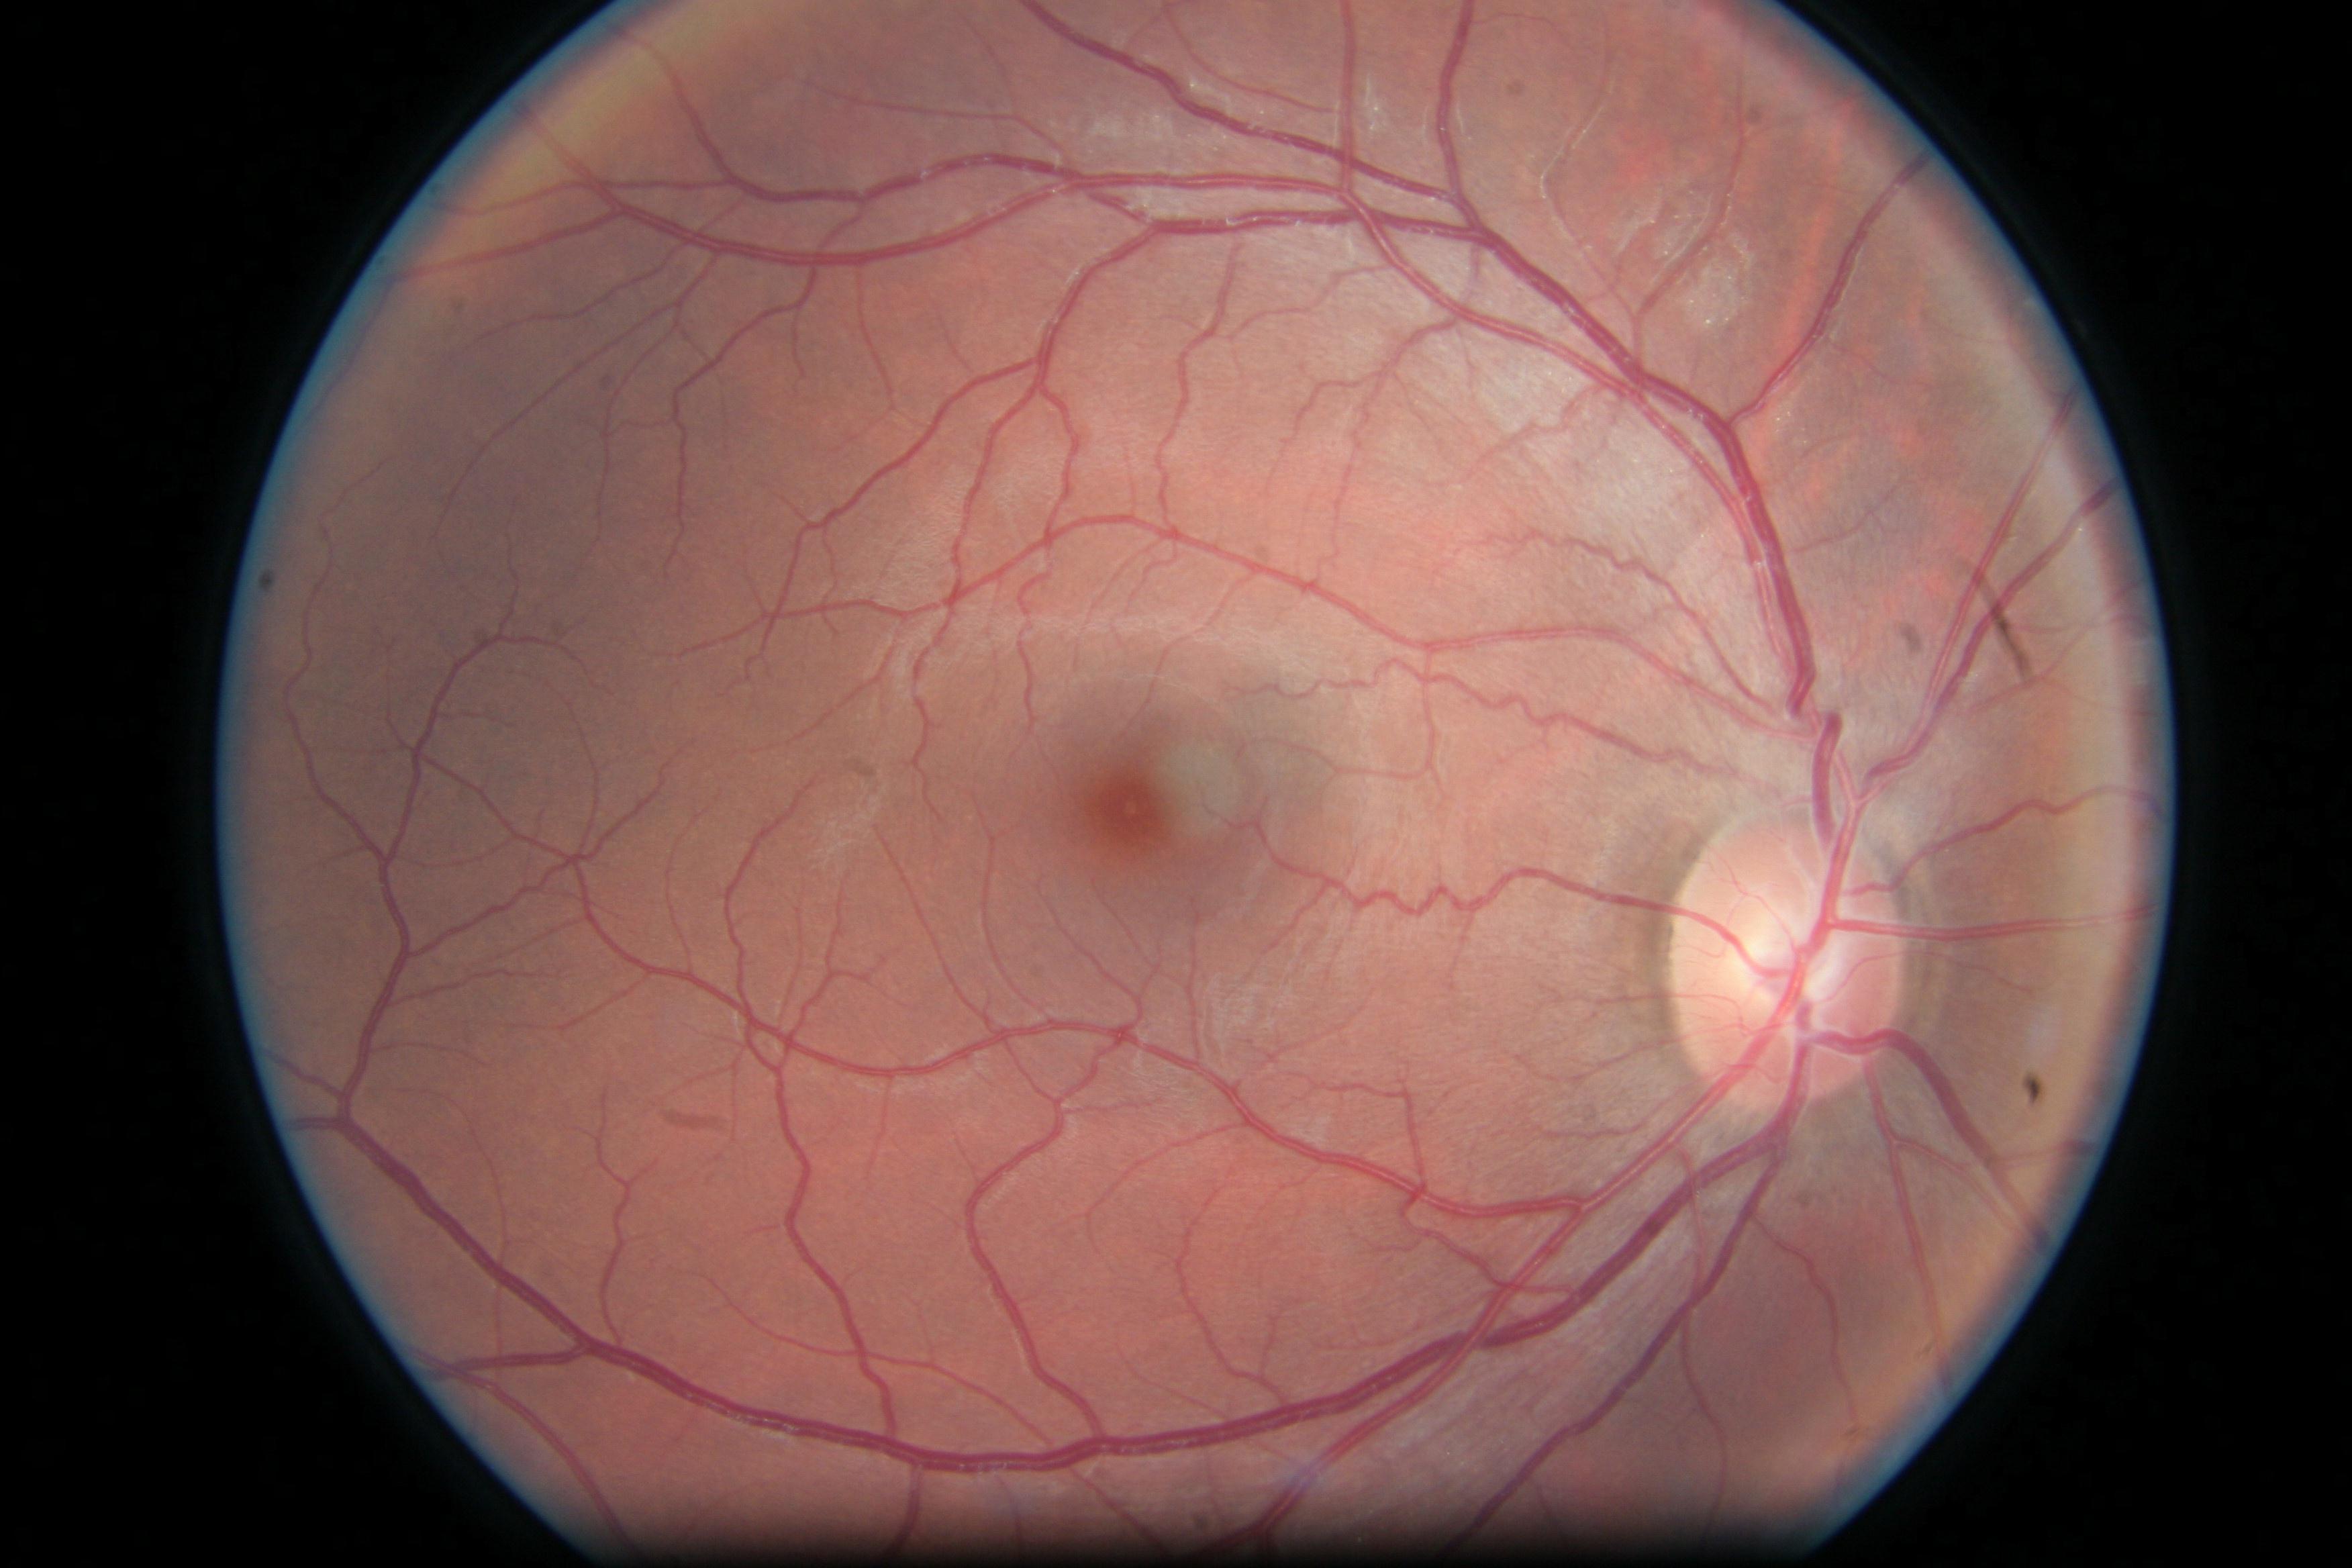Optic-nerve: (1650, 786, 1932, 1106)
macula: (950, 665, 1340, 989)
